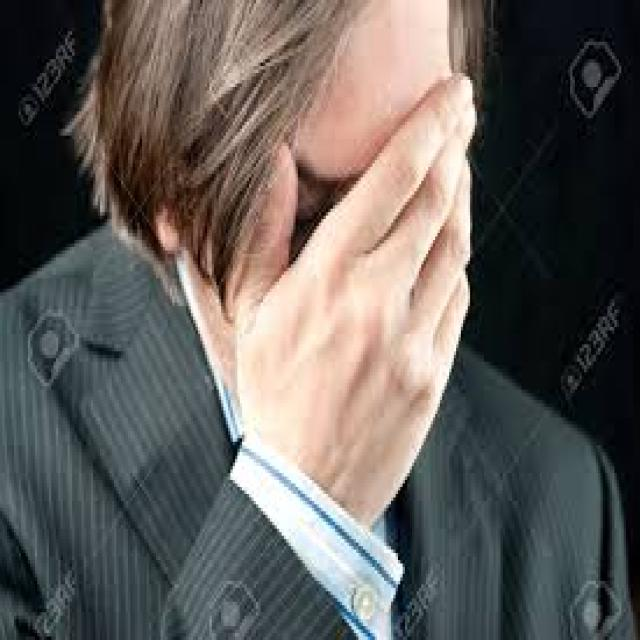7_mano_rostro: (233, 78, 459, 612)
